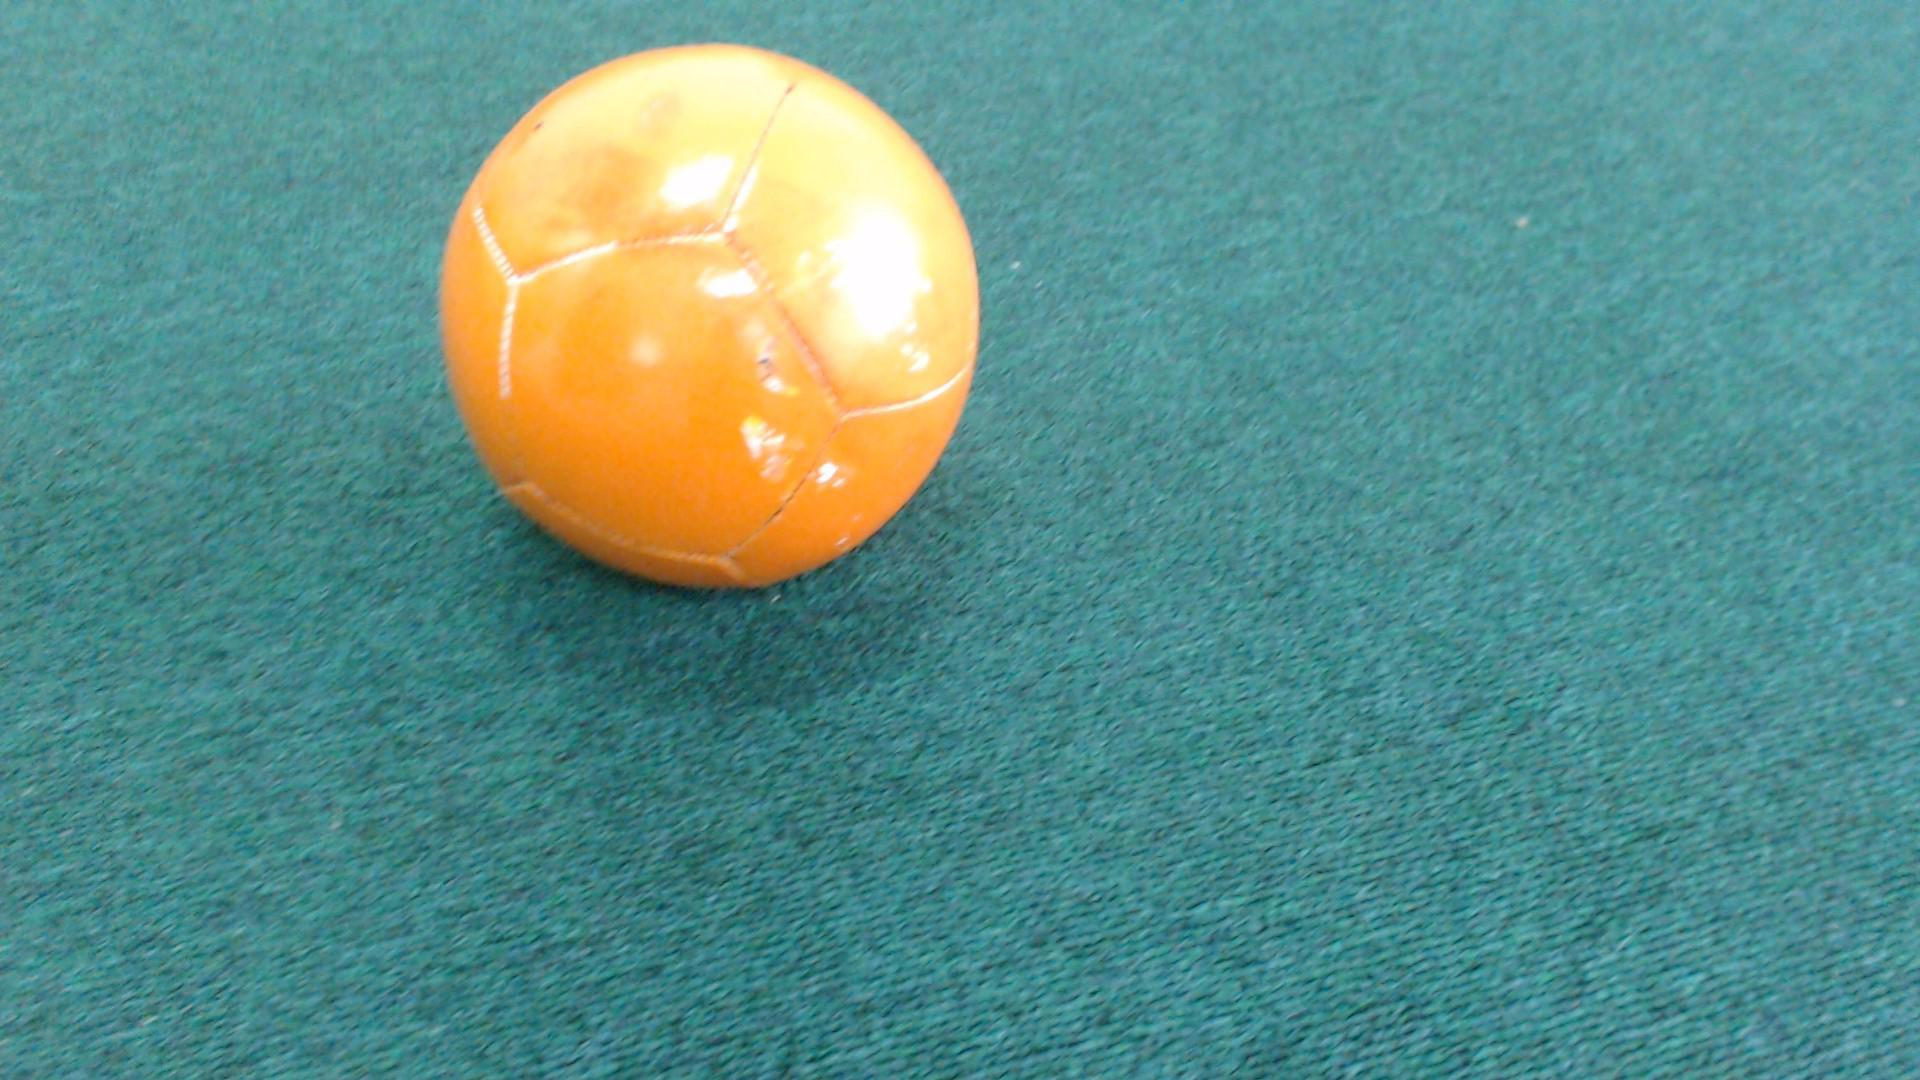bola: (406, 33, 1021, 617)
